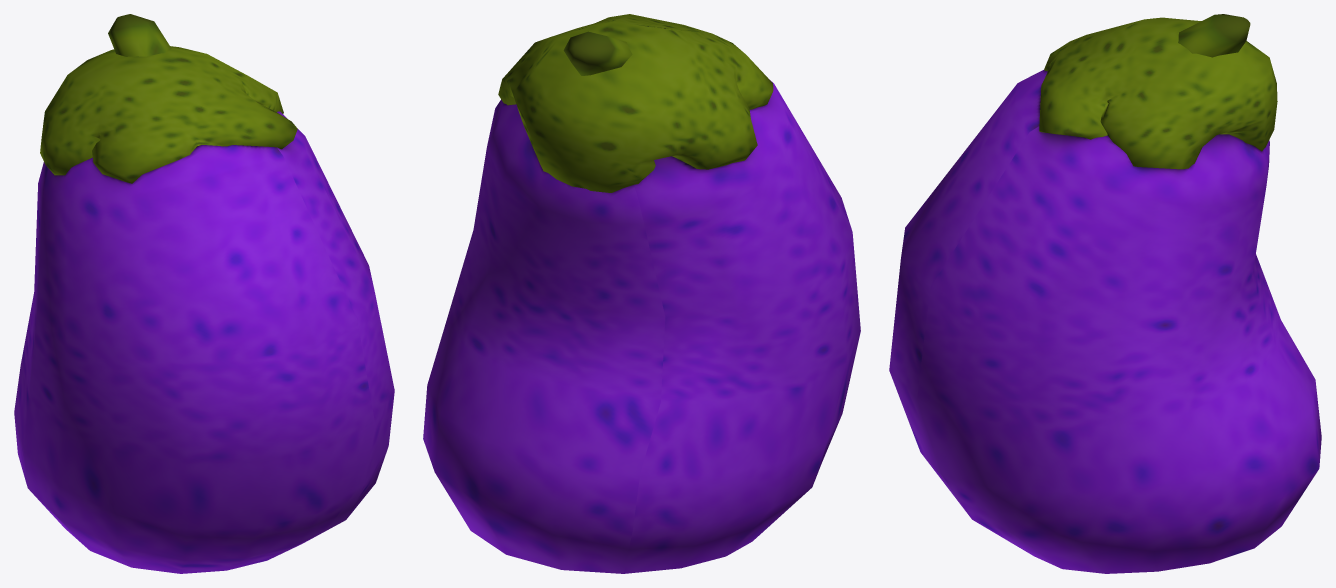
The model's file is eggplant.glb.
3 renders of one model, left to right at view 1: azimuth 30°, elevation 25°; view 2: azimuth 150°, elevation 25°; view 3: azimuth 270°, elevation 25°, orthographic. The views are drawn at different scales.
Parts seen in each view (by area): view 1: Eggplant; view 2: Eggplant; view 3: Eggplant.
Part boxes in pixels (x1,y1,x2,y2): Eggplant: [14, 14, 394, 573]; Eggplant: [423, 14, 860, 573]; Eggplant: [889, 14, 1321, 573].
Bounding box in the file's own units: 0.9428 × 1.36 × 1.04.
Materials: 1 (1 with a texture image).
